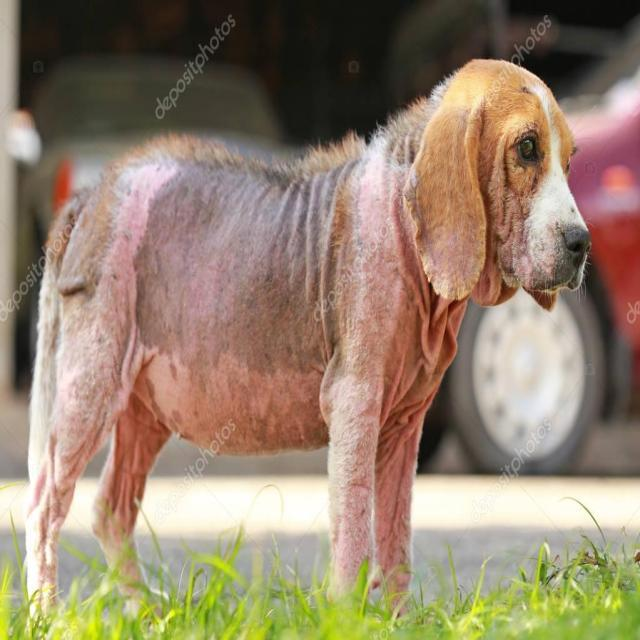mange: (102, 181, 376, 442), (326, 193, 398, 310), (332, 407, 368, 576), (488, 184, 547, 284), (63, 335, 102, 445)
